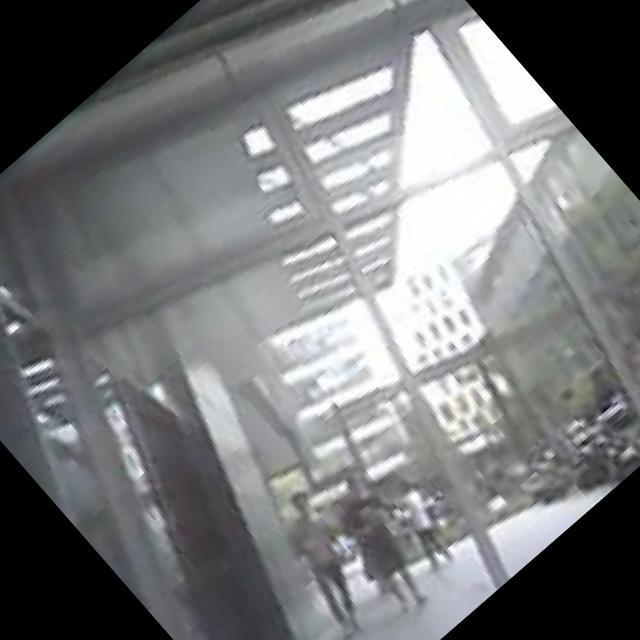person: (248, 485, 401, 640), (311, 464, 458, 620), (375, 477, 469, 576)
